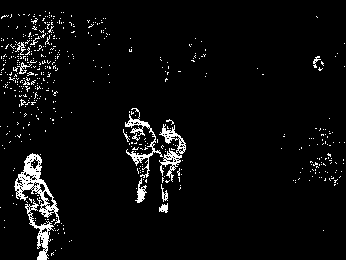person: (14, 151, 63, 260), (121, 103, 155, 206), (156, 115, 188, 219)
